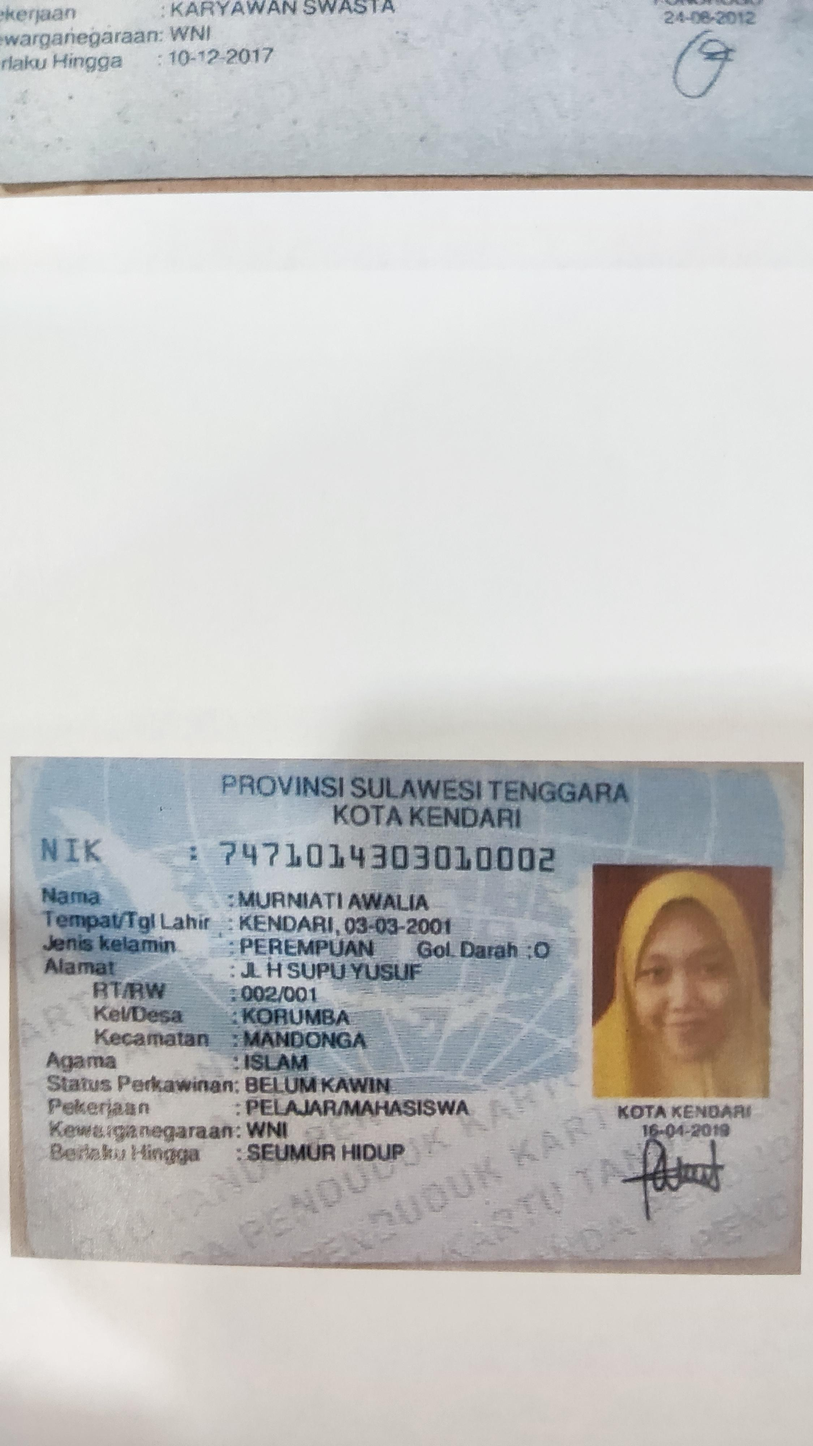ID-card: (9, 751, 798, 1273)
